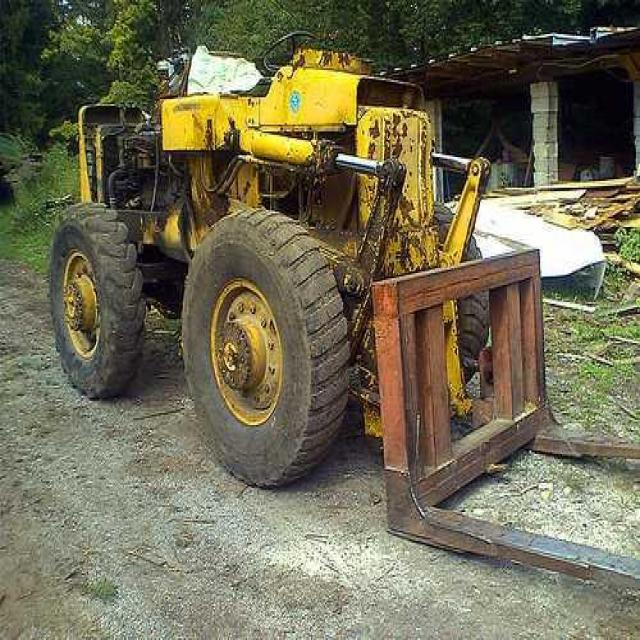Chariot elevateur: (42, 31, 639, 606)
